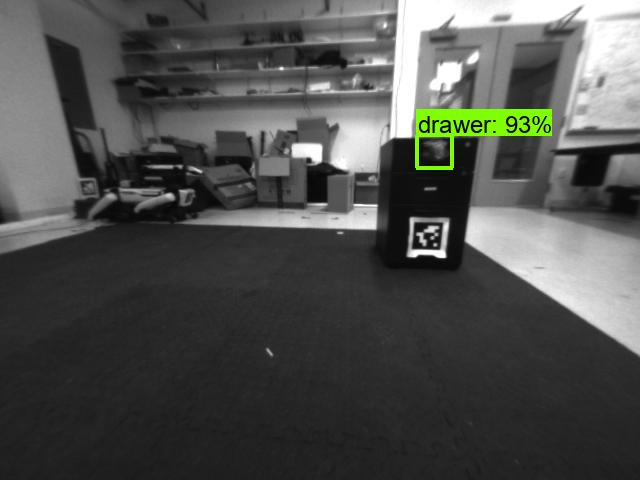door_handle: (467, 127, 483, 138)
drawer: (418, 135, 451, 168)
